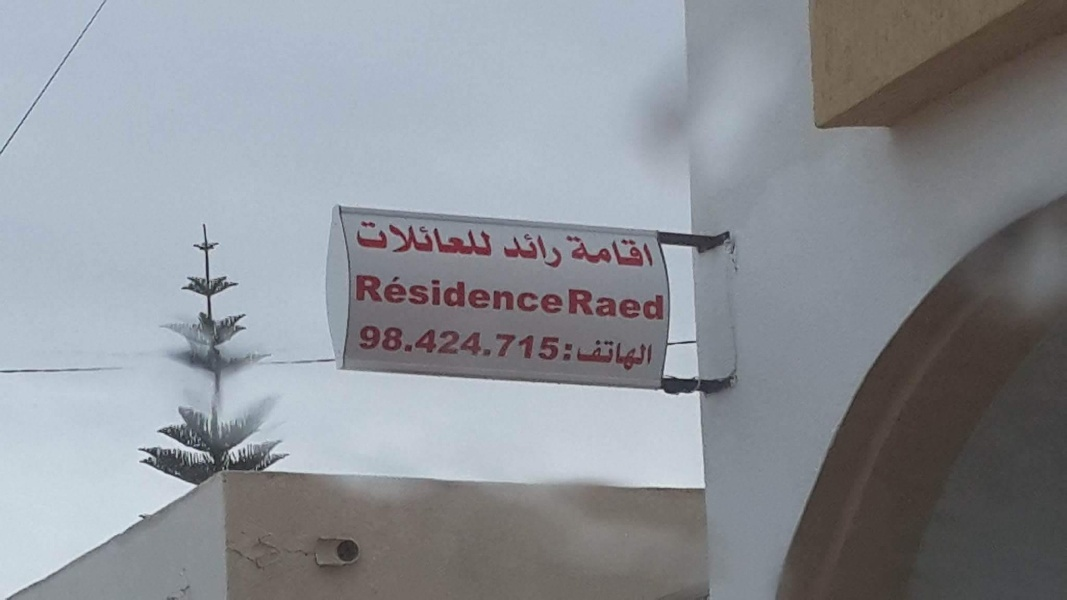text: (369, 272, 384, 317), (385, 272, 400, 317), (401, 272, 416, 317), (417, 272, 432, 317), (433, 272, 448, 317), (449, 272, 464, 317), (465, 272, 480, 317), (481, 272, 496, 317), (497, 272, 512, 317), (513, 272, 528, 317), (529, 272, 544, 317), (545, 272, 560, 317), (353, 218, 368, 261), (369, 218, 384, 261), (385, 218, 400, 261), (401, 218, 416, 261), (417, 218, 432, 261), (433, 218, 448, 261), (449, 218, 464, 261), (465, 218, 480, 261), (513, 230, 528, 272), (529, 230, 544, 272), (545, 230, 560, 272), (641, 336, 657, 373), (355, 272, 368, 317), (577, 231, 592, 270), (593, 231, 608, 270), (609, 231, 624, 270), (625, 231, 640, 270), (641, 231, 656, 270), (369, 324, 384, 362), (385, 324, 400, 362), (401, 324, 416, 362), (417, 324, 432, 362), (433, 324, 448, 362), (449, 324, 464, 362), (465, 324, 480, 362), (481, 324, 496, 362), (497, 324, 512, 362), (513, 324, 528, 362), (529, 324, 544, 362), (545, 324, 560, 362), (481, 218, 494, 261), (577, 285, 592, 322), (593, 285, 608, 322), (609, 285, 624, 322), (625, 285, 640, 322), (641, 285, 656, 322), (561, 336, 576, 373), (577, 336, 592, 373), (593, 336, 608, 373), (609, 336, 624, 373), (625, 336, 640, 373), (564, 231, 576, 270), (502, 230, 512, 272), (358, 324, 368, 362), (657, 285, 667, 322), (567, 285, 576, 322), (561, 272, 566, 317), (561, 230, 565, 272), (657, 231, 659, 270), (561, 324, 563, 362), (351, 218, 352, 261)
